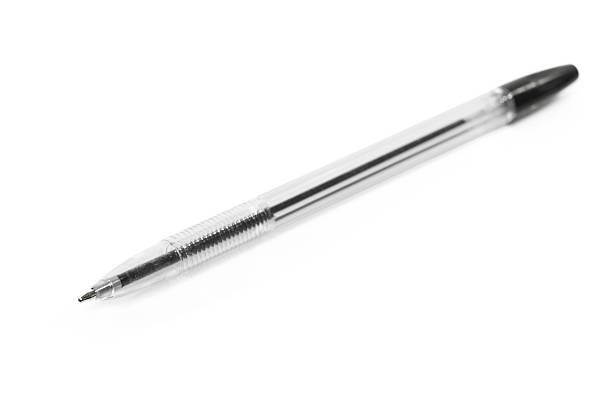pen: (68, 43, 583, 313)
